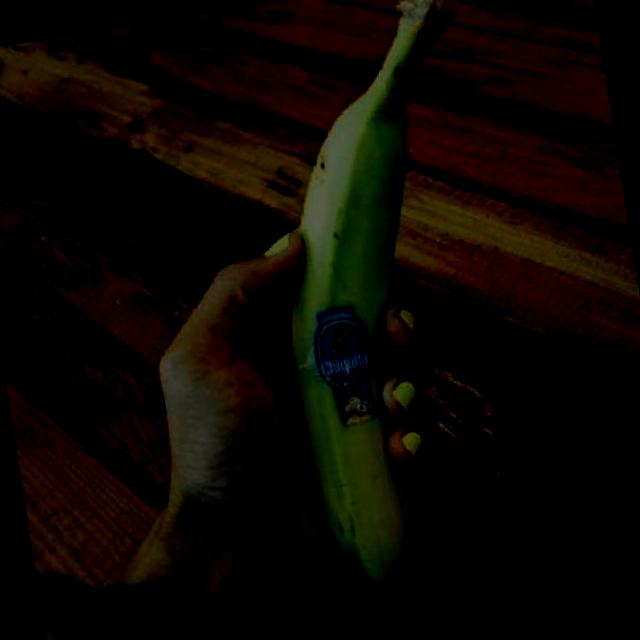Banana: (233, 0, 544, 617)
